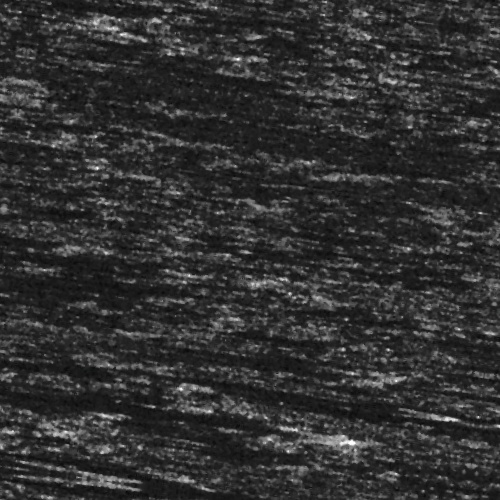object: (72, 488, 197, 499), (309, 415, 414, 428), (255, 77, 328, 86), (417, 380, 490, 389), (174, 408, 267, 415), (292, 264, 355, 271), (455, 491, 500, 500), (482, 249, 500, 258)
shadow: (0, 415, 361, 428), (170, 491, 500, 500), (211, 249, 500, 258), (48, 77, 291, 86), (0, 488, 134, 499), (415, 48, 500, 65), (50, 408, 220, 415), (375, 380, 453, 389), (245, 264, 323, 271), (410, 25, 500, 30), (450, 358, 500, 363)
